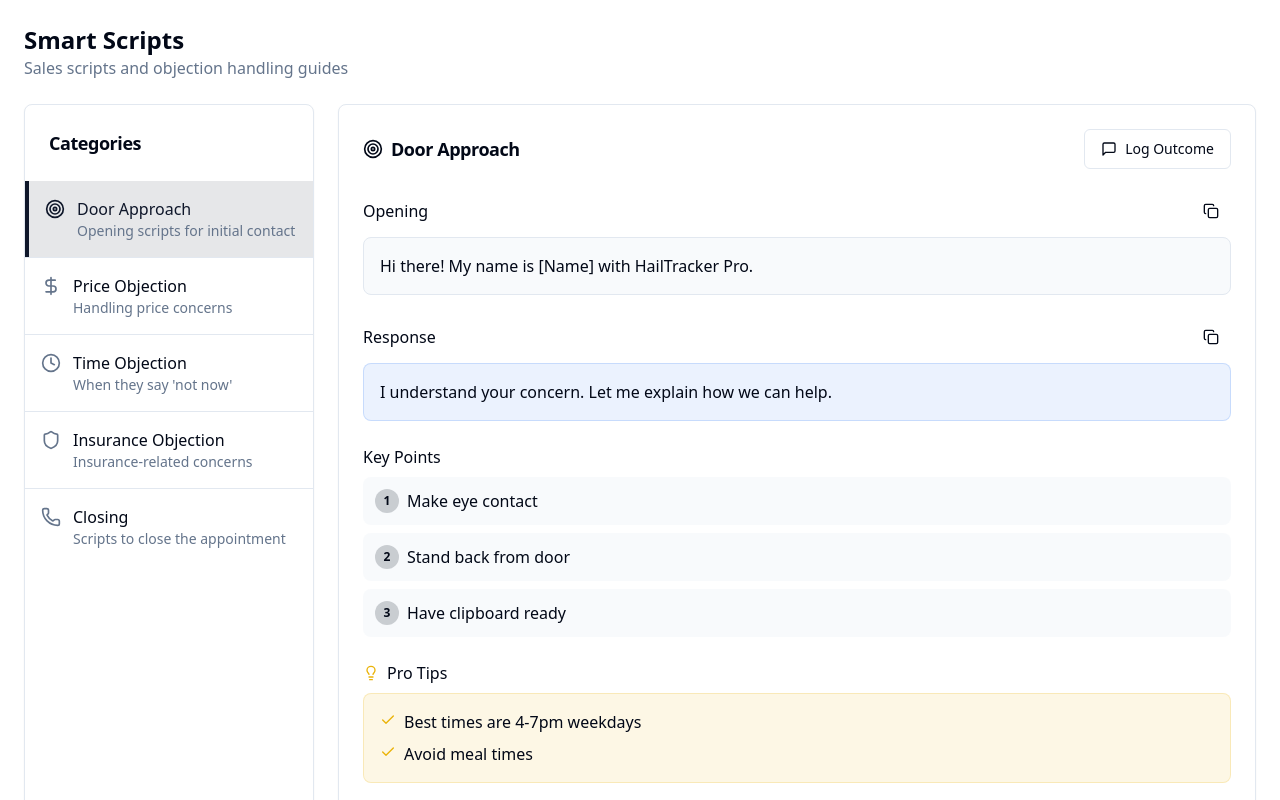
Test: ScriptsPage › Log Outcome Button › opens log outcome dialog when clicking button
The width and height of the screenshot is (1280, 800).
Step 1. Click the button "Log Outcome" → (1158, 149), box [1084,129,1231,169]
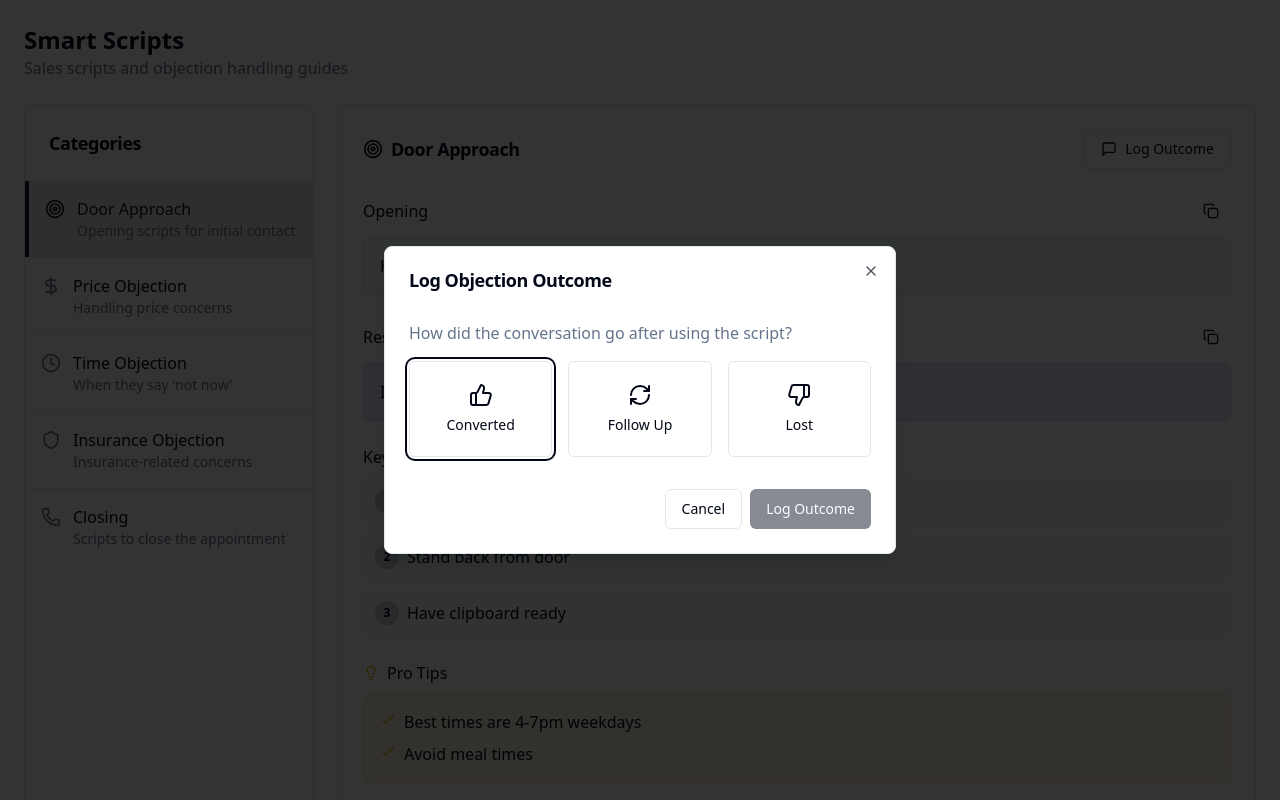
Expected: the heading "Log Objection Outcome" is shown, [409,268,612,292]
